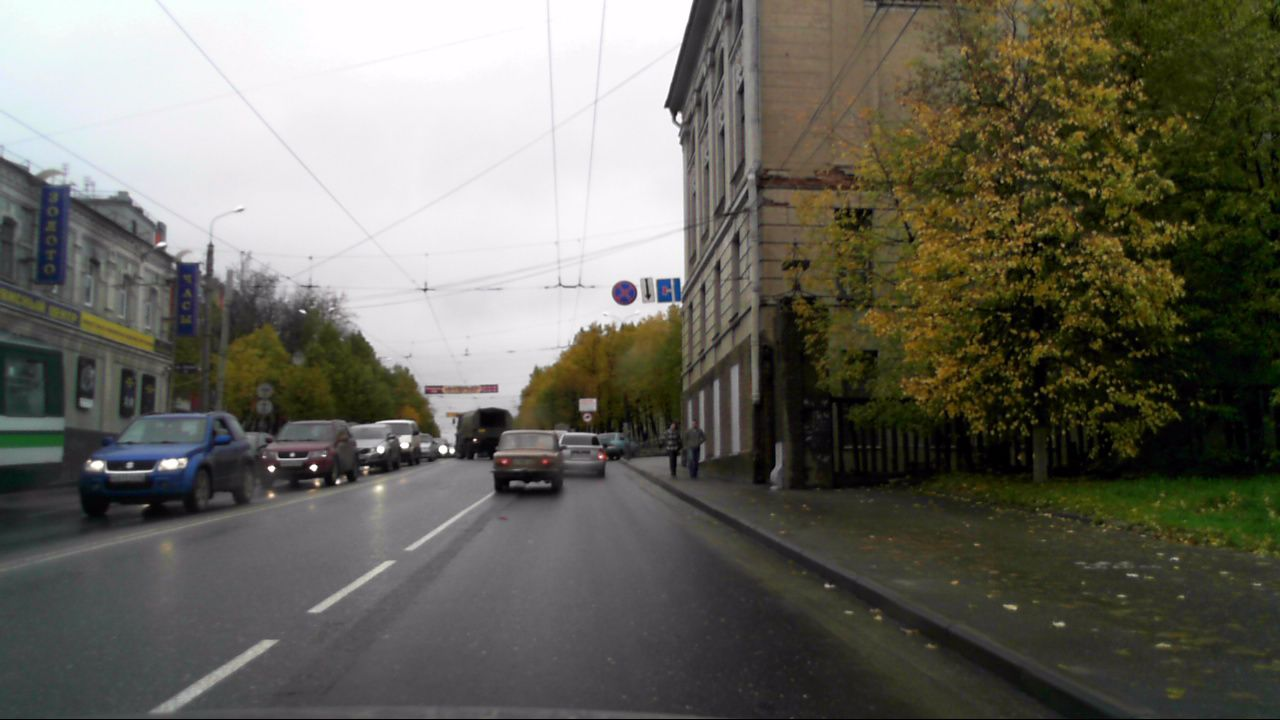No Parking: (611, 280, 637, 305)
